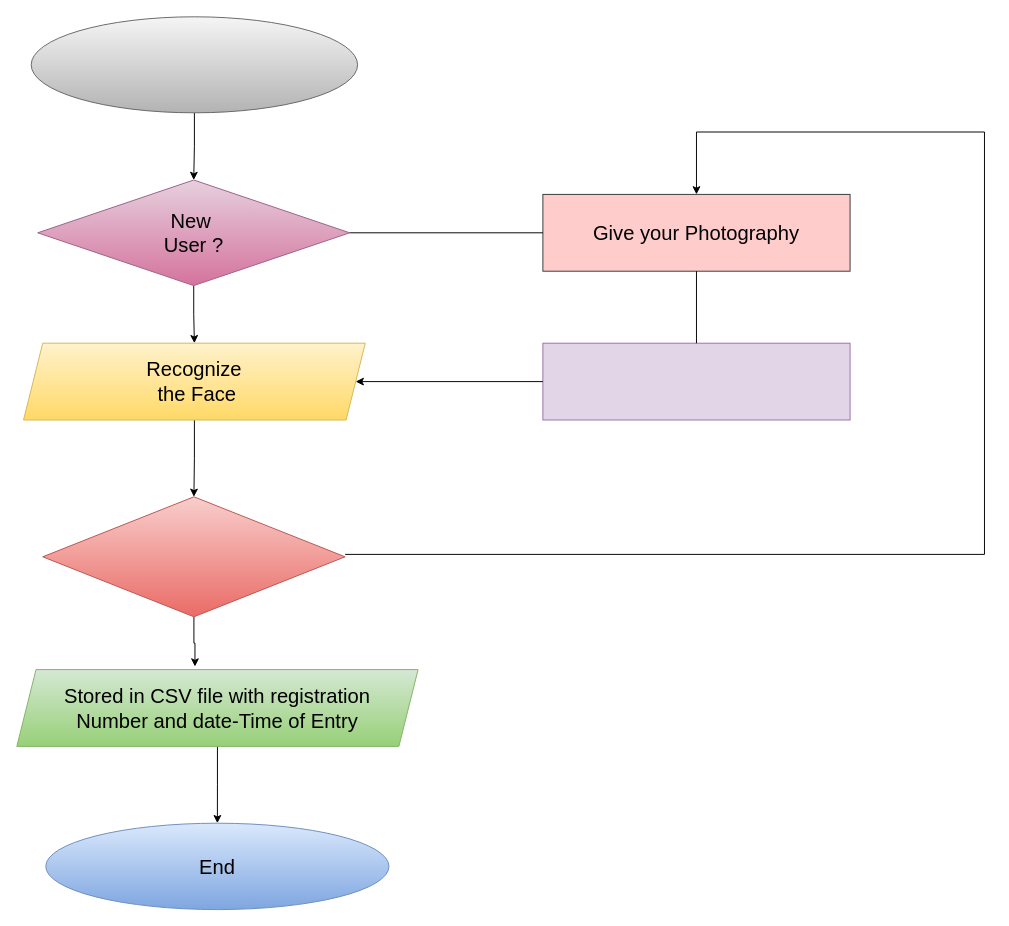
This 1009x926 diagram has some shape labels left out. The shapes that lost their labels are listed below. From the top down, each one's box as (x1, y1, x2, y2) in pixels, then its label:
(30, 16, 358, 113): Start
(542, 342, 850, 420): Store the face data in folder on your name
(42, 496, 345, 617): Face Recognized
